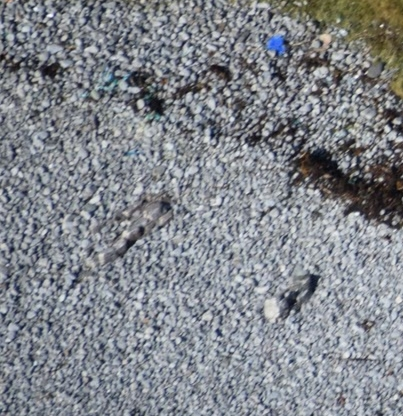white_in_green: (294, 16, 349, 69), (246, 18, 302, 69)
